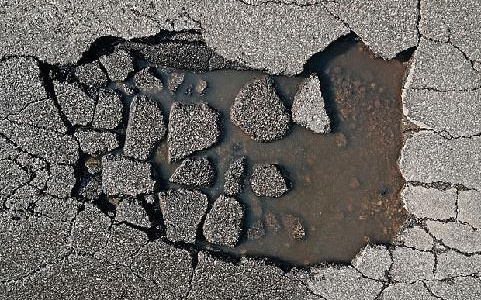pothole: (28, 23, 422, 276)
